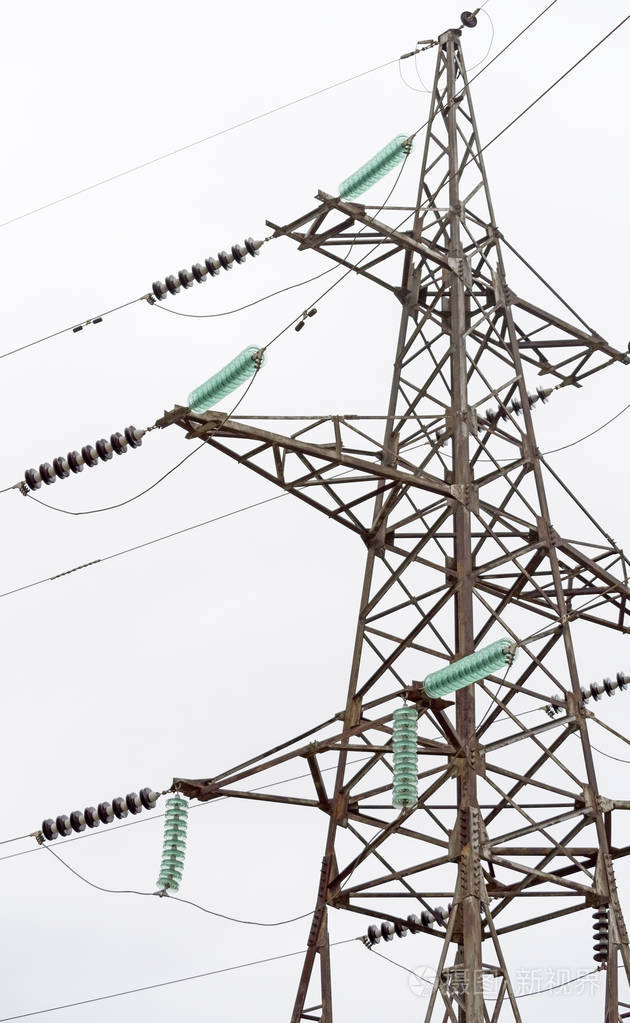insulator: (21, 427, 144, 494), (40, 786, 155, 836), (423, 637, 511, 701), (152, 241, 257, 294), (343, 135, 412, 198), (191, 348, 259, 411), (365, 903, 451, 943), (393, 705, 421, 811), (161, 797, 189, 892), (486, 383, 543, 428), (584, 671, 628, 701), (586, 903, 607, 964)
